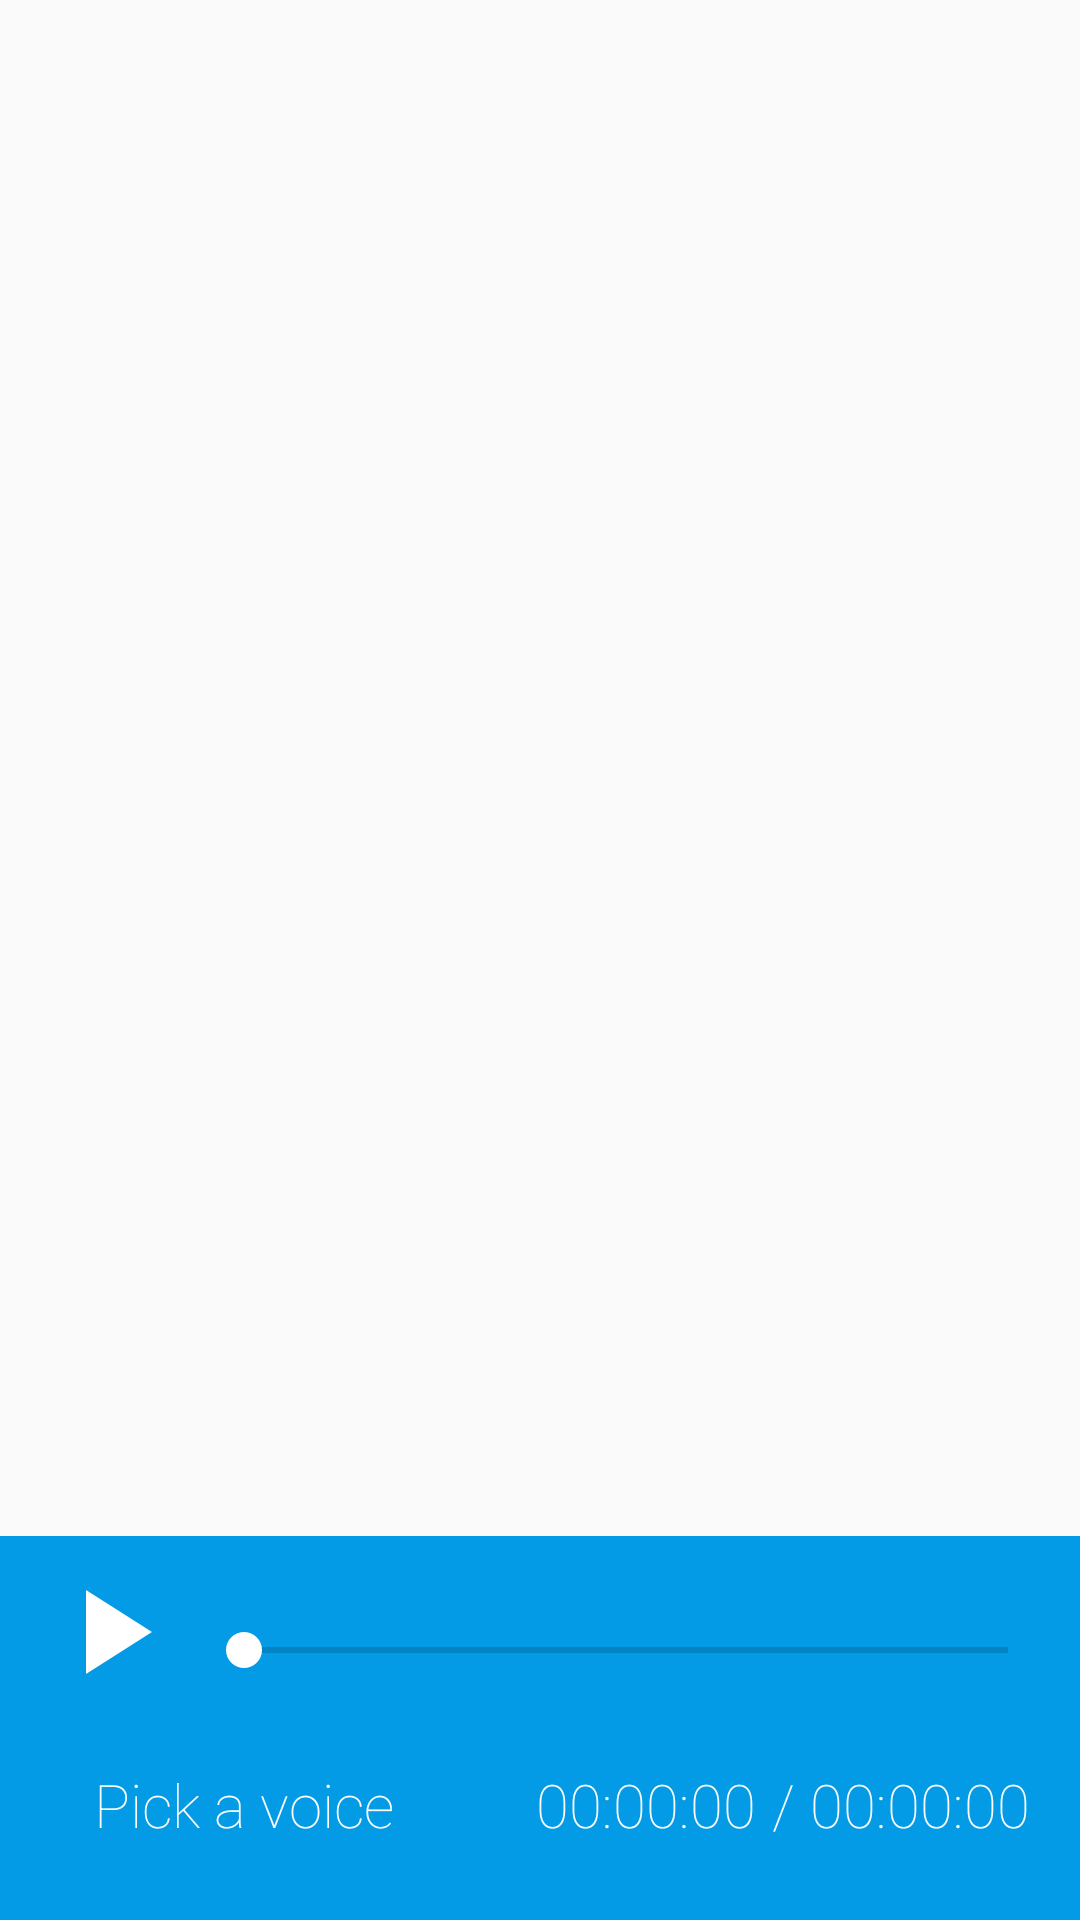

Where icons sit on this 1080px x 1920px app screen, as (x1, y1, x2, y2):
play arrow: (86, 1590, 152, 1674)
